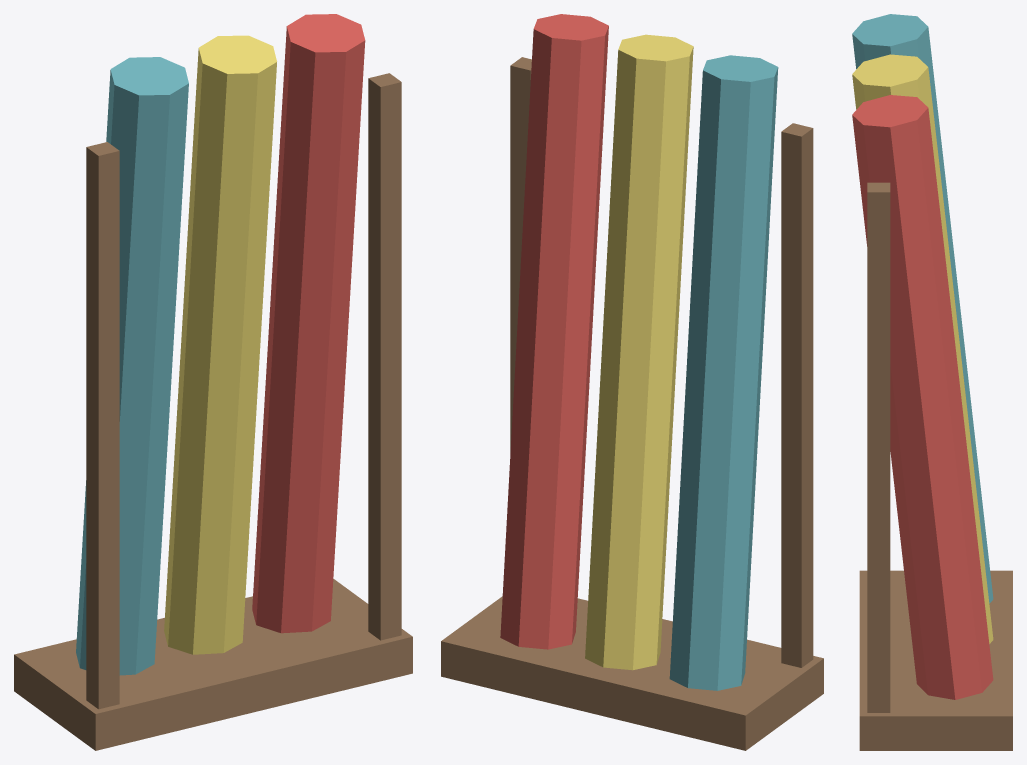
The model's file is surf_rack.glb.
3 views of the same model, side by side, from view 1: azimuth 30°, elevation 25°; view 2: azimuth 150°, elevation 25°; view 3: azimuth 270°, elevation 25° (orthographic). The views are drawn at different scales.
Visible parts, largest first — view 1: surf_rack; view 2: surf_rack; view 3: surf_rack.
Boxes of the visible parts, box(x1,y1,x2,y2) form: surf_rack: box(14, 14, 412, 750); surf_rack: box(441, 14, 823, 750); surf_rack: box(852, 14, 1012, 750).
Bounding box in the file's own units: 0.9 × 1.76 × 0.4195.
